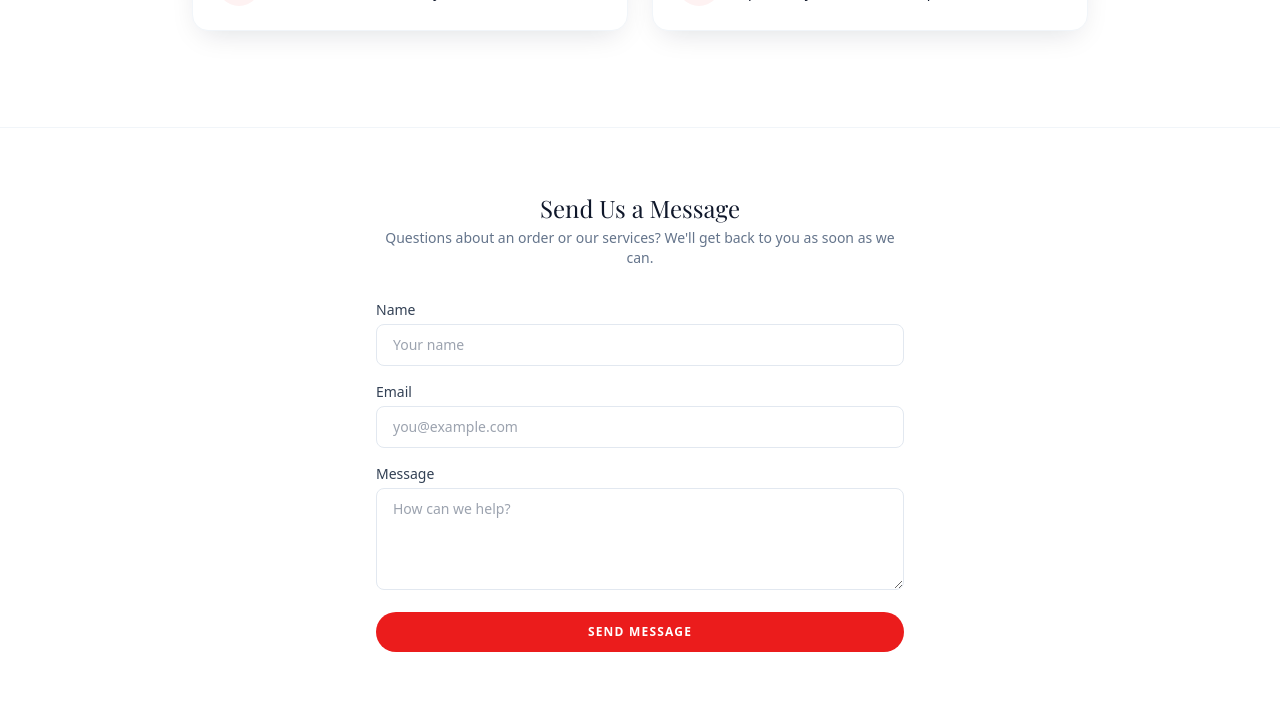
Test: ContactPage › shows a validation error when the message is missing
(page scrolled)
In the field with placeholder "Your name": (640, 345) left=376, top=324, right=904, bottom=366, type "Ama"
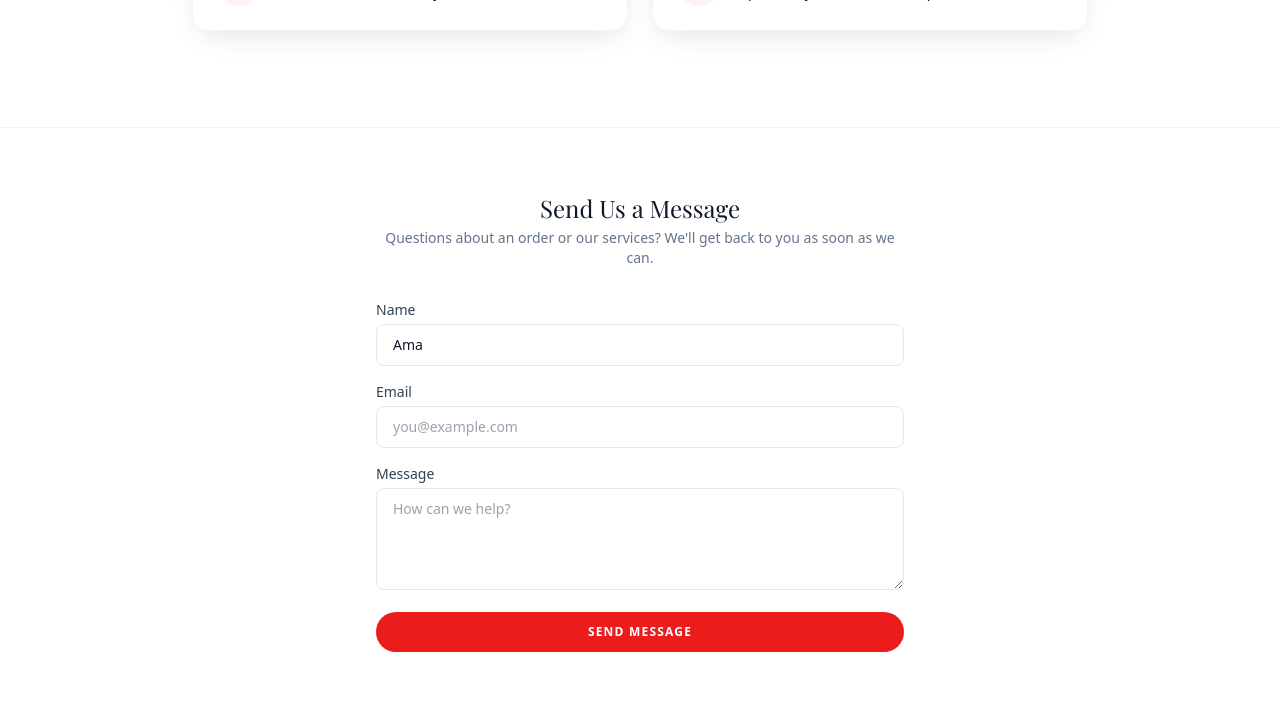
In the field with placeholder "you@example.com": (640, 427) left=376, top=406, right=904, bottom=448, type "ama@example.com"
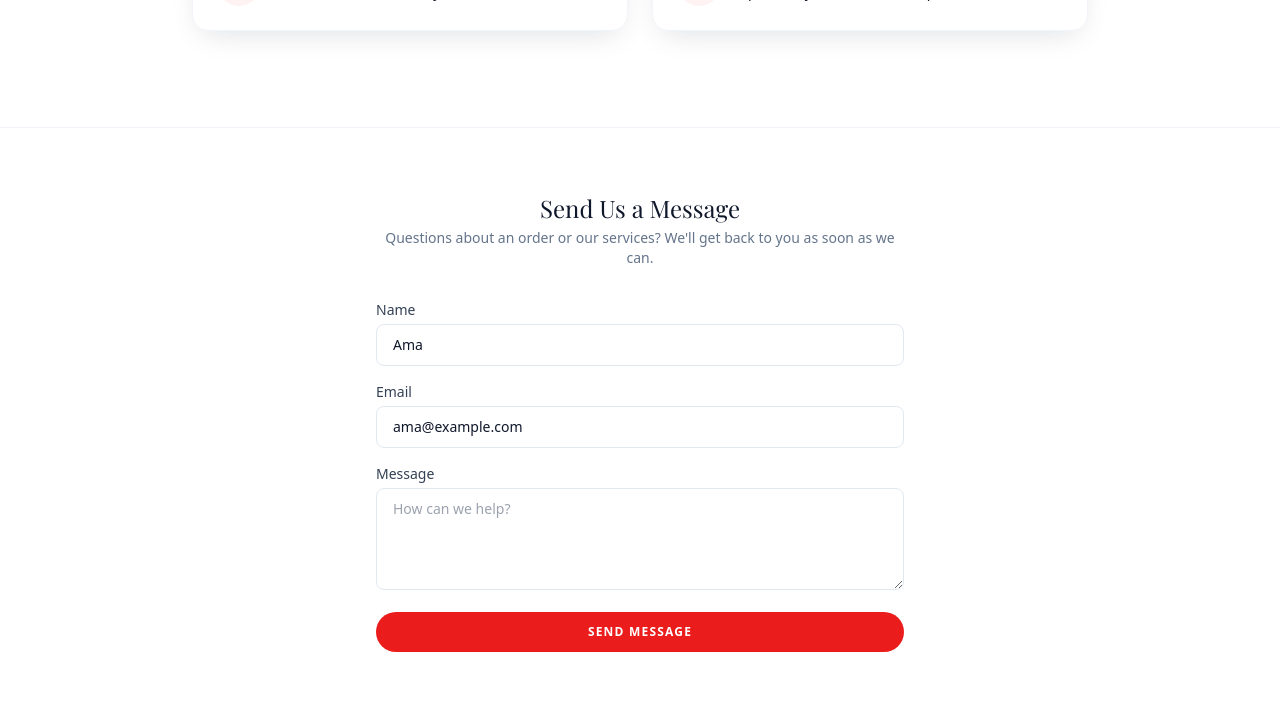
Submit the form, box left=376, top=300, right=904, bottom=652
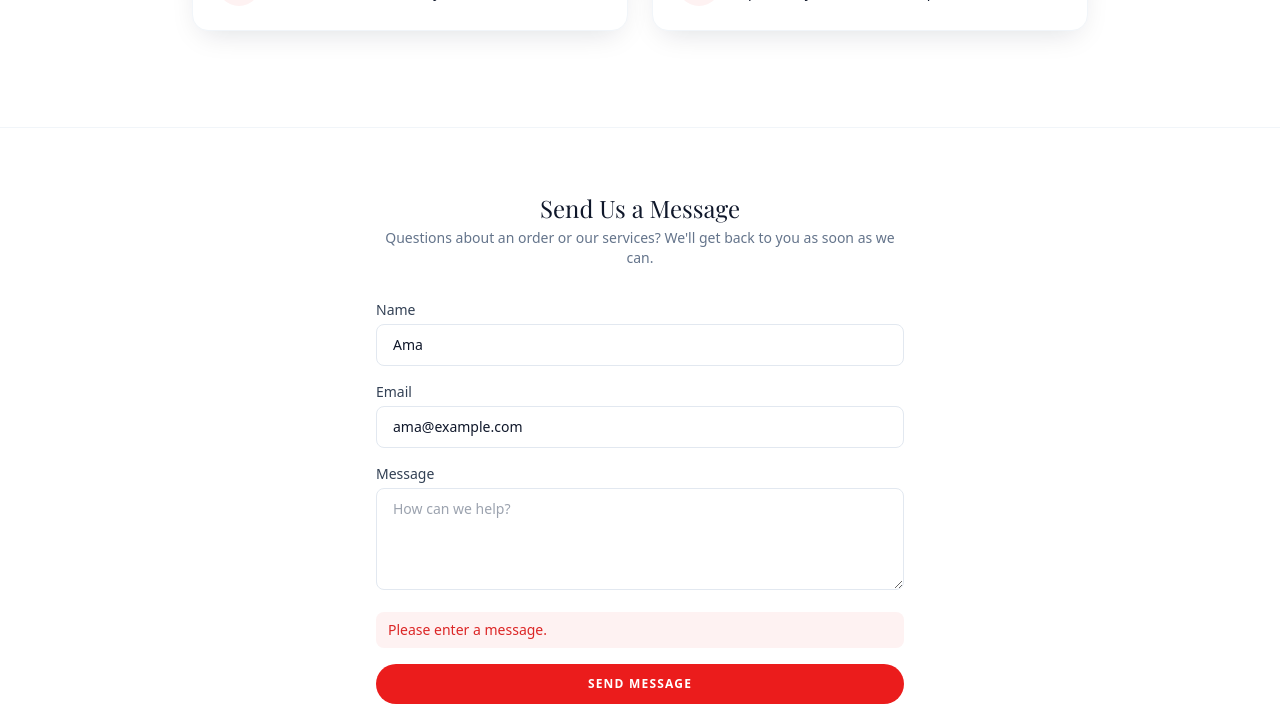
Expected: the text "Please enter a message." is shown, left=376, top=612, right=904, bottom=648
